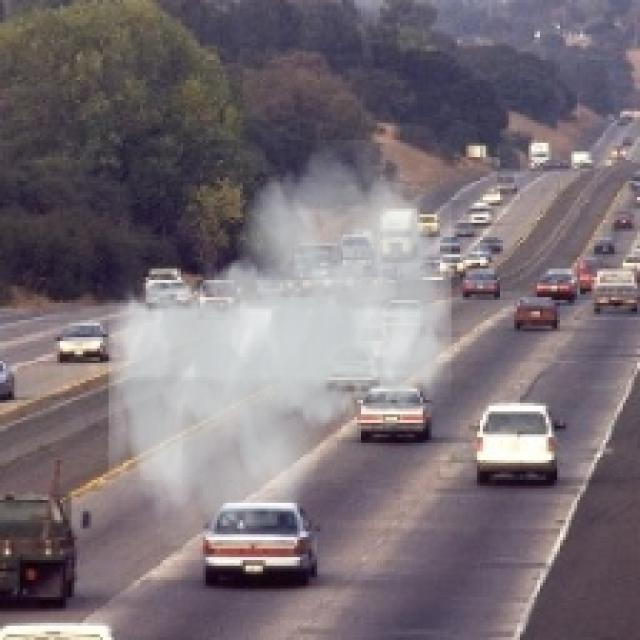smoke: (109, 140, 452, 546)
